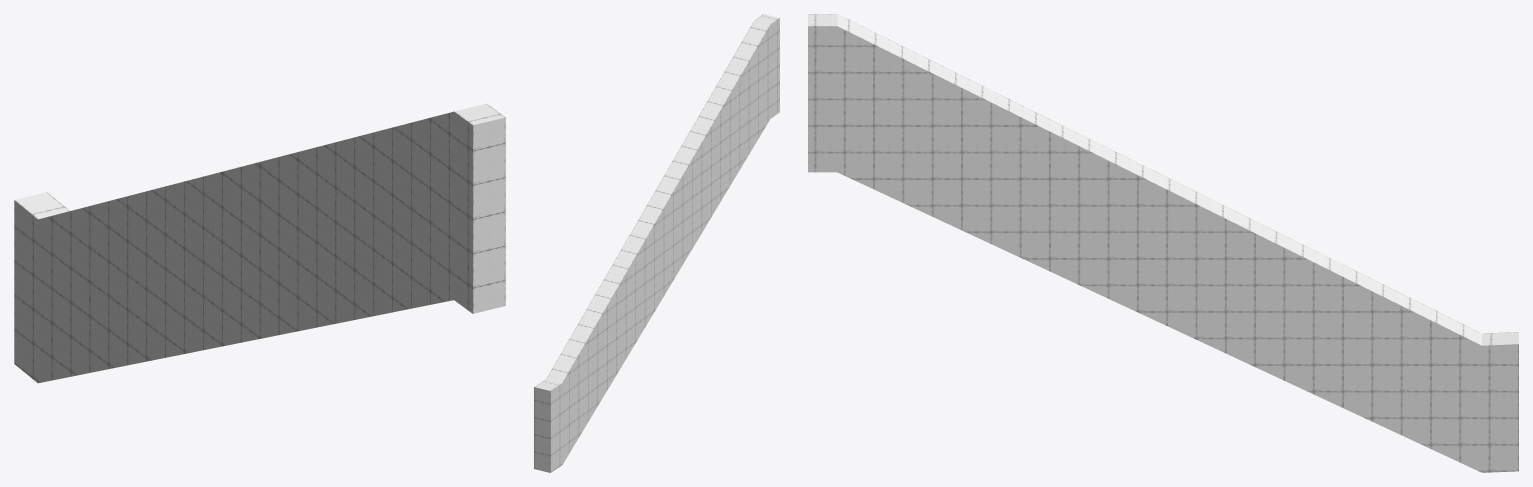
The model's file is StairRailCollider.fbx.
3 renders of one model, left to right at view 1: azimuth 30°, elevation 25°; view 2: azimuth 150°, elevation 25°; view 3: azimuth 270°, elevation 25°, orthographic. The views are drawn at different scales.
Visible parts, largest first — view 1: StairRailCollider (5); view 2: StairRailCollider (5); view 3: StairRailCollider (5).
Boxes of the visible parts, <box> form: StairRailCollider (5): <box>14,103,505,383</box>; StairRailCollider (5): <box>534,14,779,472</box>; StairRailCollider (5): <box>808,14,1518,472</box>.
Bounding box in the file's own units: 1 × 16.81 × 24.25.
